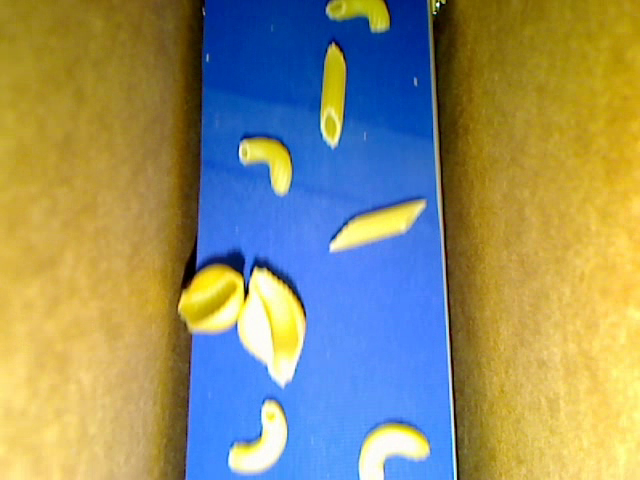elbow: (227, 398, 287, 475), (358, 421, 431, 479), (238, 137, 293, 197), (325, 1, 390, 35)
penne: (327, 199, 427, 254), (320, 42, 346, 150)
shell: (238, 265, 307, 389), (178, 262, 244, 334)
